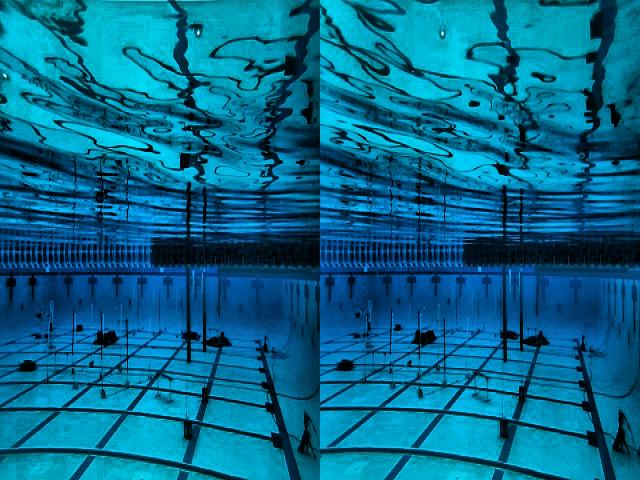gate: (502, 240, 524, 363), (186, 238, 207, 362)
octagon_table: (35, 310, 51, 340), (354, 309, 368, 340)
path_marker: (472, 368, 491, 403), (156, 371, 174, 403), (51, 352, 72, 375), (370, 350, 390, 373), (207, 327, 220, 349), (526, 326, 539, 347)
